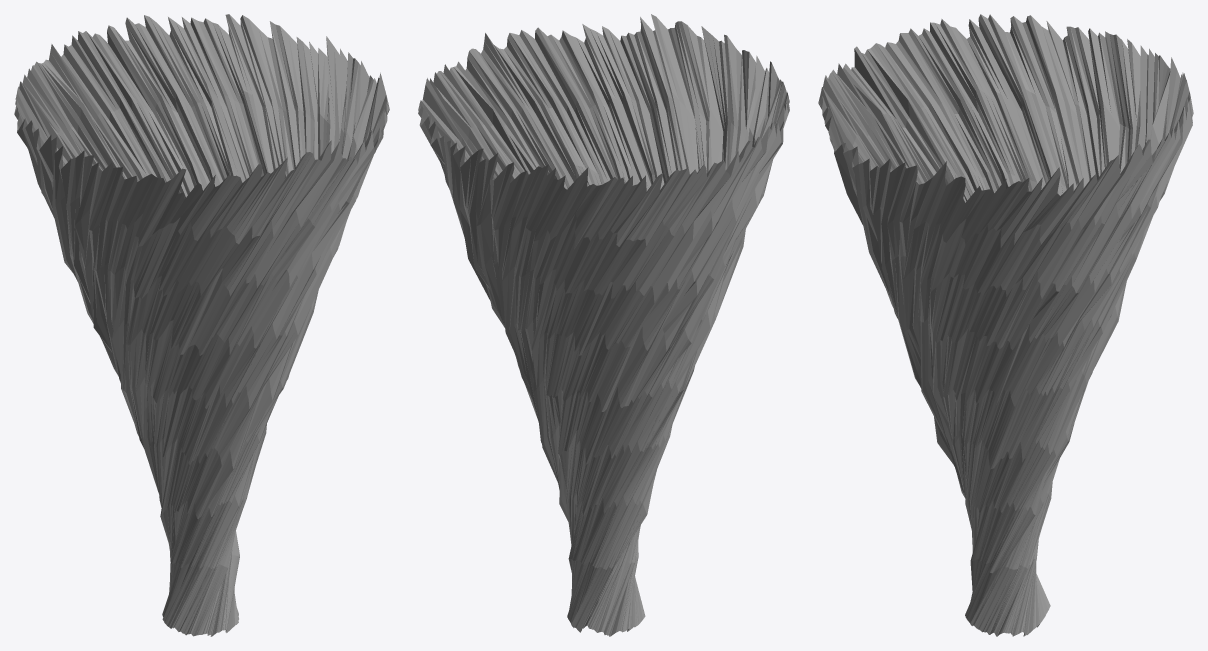
Rendered from tornado.obj.
The picture shows the model from 3 angles, left to right: view 1: azimuth 30°, elevation 25°; view 2: azimuth 150°, elevation 25°; view 3: azimuth 270°, elevation 25°; orthographic projection.
Visible parts, largest first — view 1: Cylinder; view 2: Cylinder; view 3: Cylinder.
Boxes of the visible parts, box(x1,y1,x2,y2) form: Cylinder: box(14, 14, 389, 636); Cylinder: box(418, 14, 789, 636); Cylinder: box(818, 14, 1193, 636).
Bounding box in the file's own units: 200 × 318 × 200.
1 material, 1 textured.
